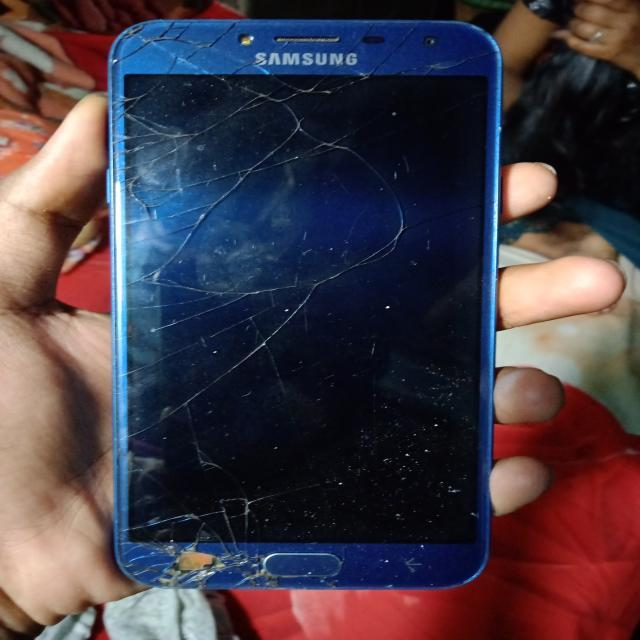screen crack: (88, 25, 458, 345), (108, 461, 313, 593)
